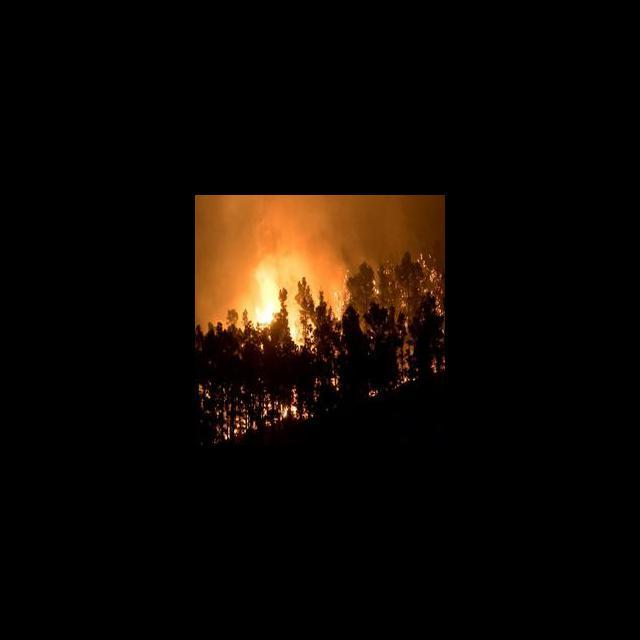Fire: (250, 266, 293, 327)
